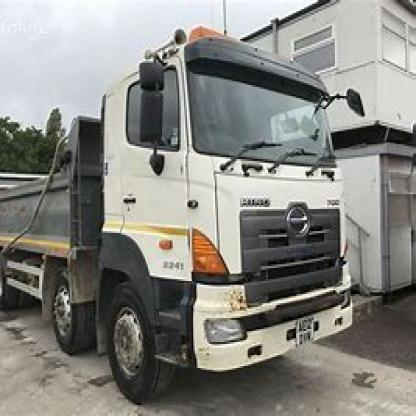dump_truck: (3, 24, 376, 405)
